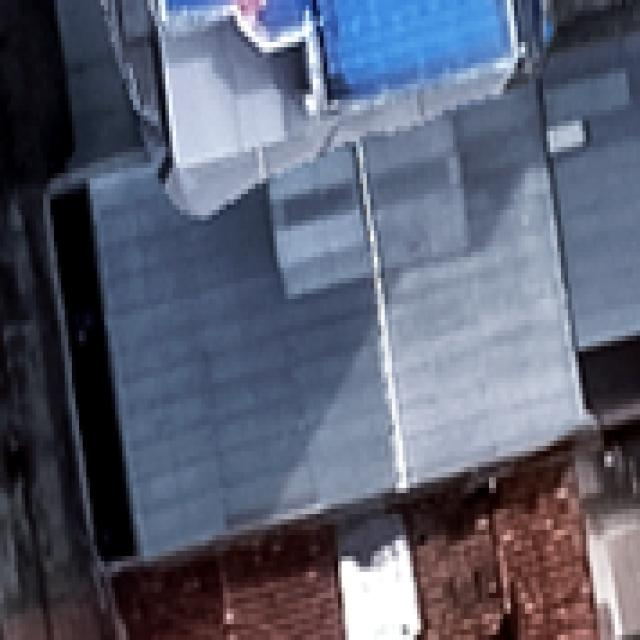Batiment: (92, 90, 583, 557), (158, 1, 508, 98)
